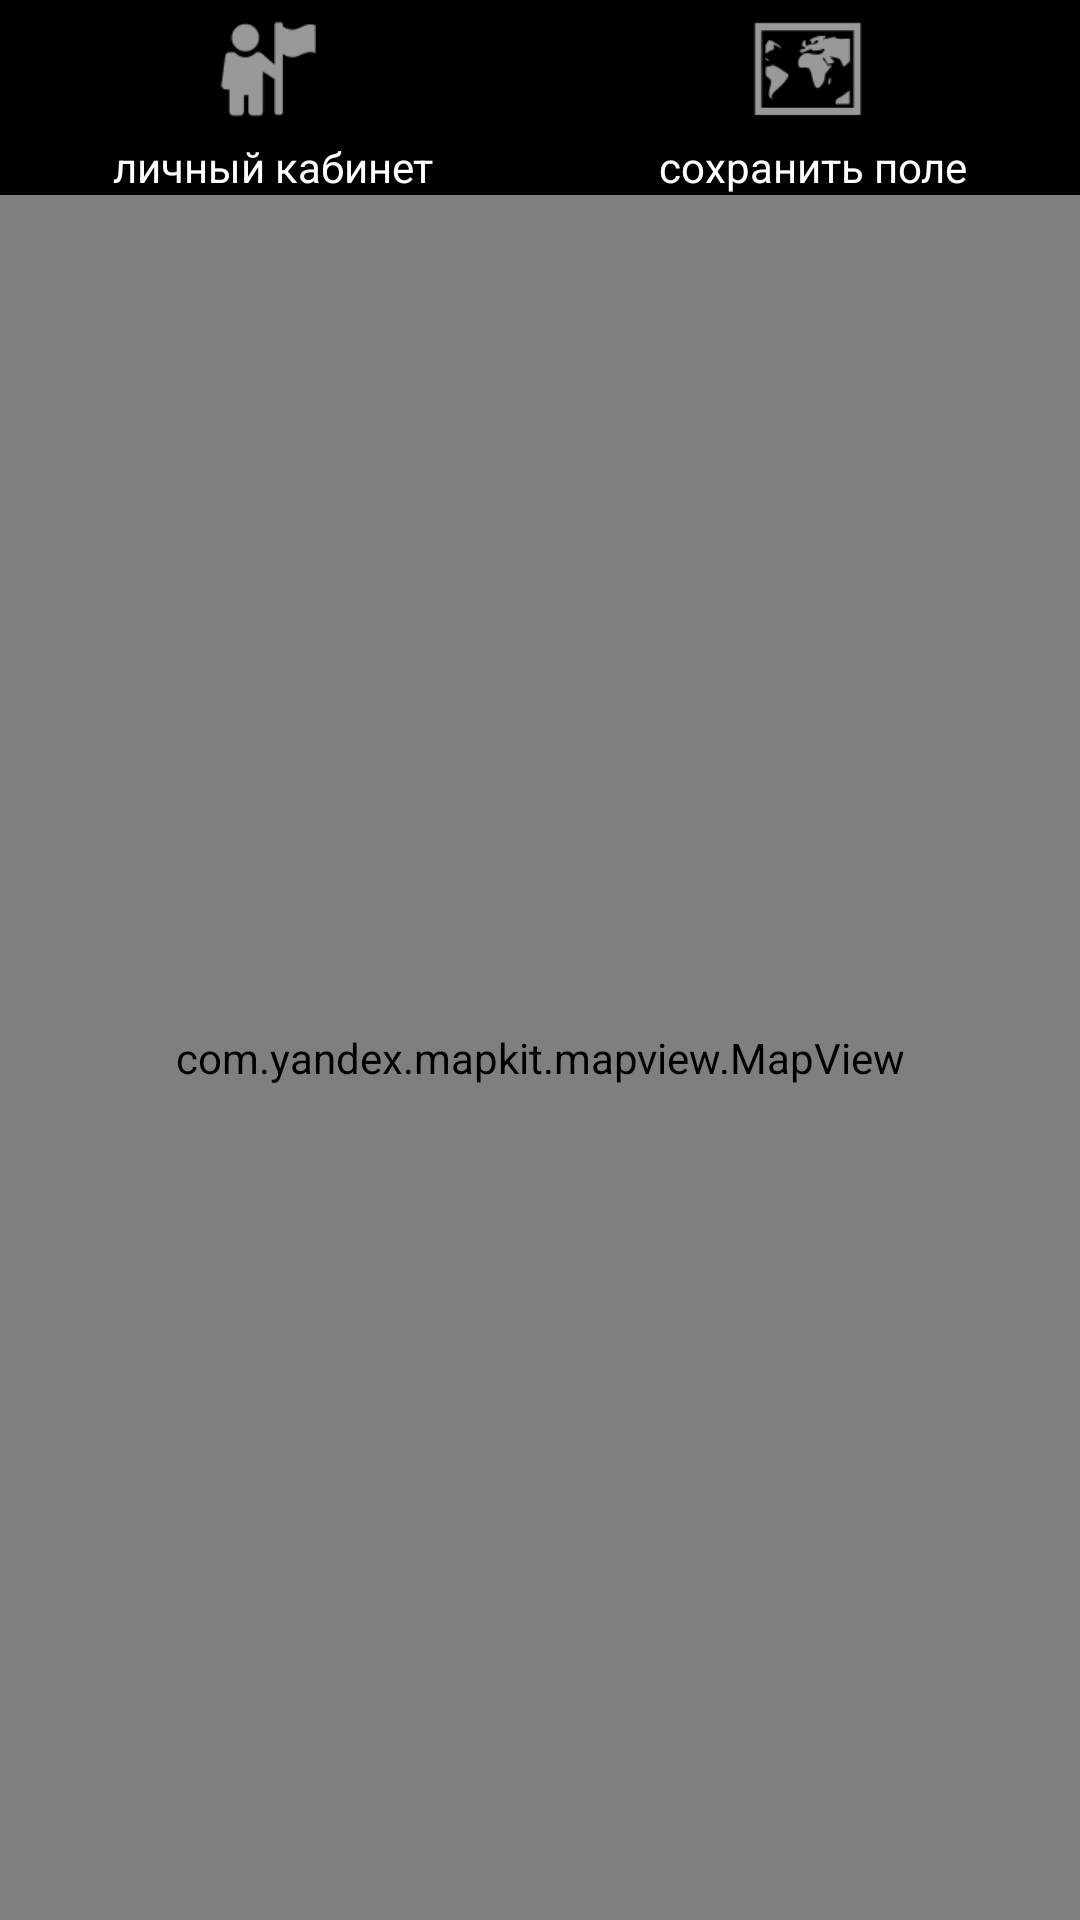

Where to tap for icons on this 1080*1920 app screen, as (x=x, y=y):
mapmode: (x=807, y=69)
myplaces: (x=268, y=69)
